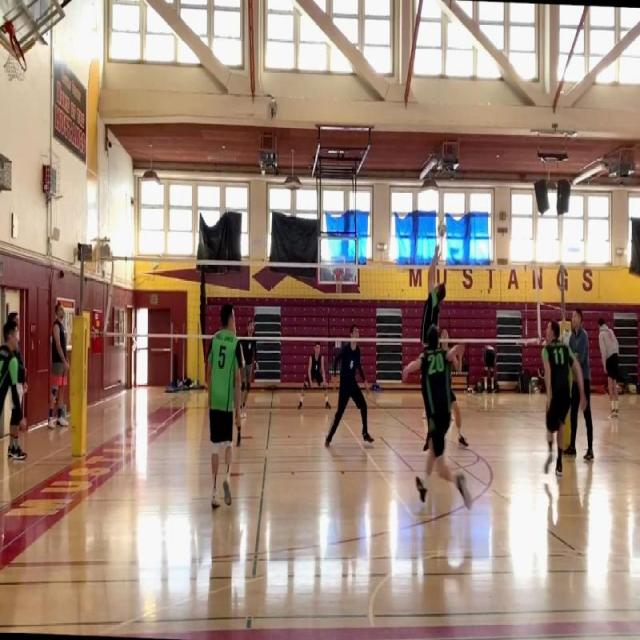volleyball: (438, 219, 446, 236)
